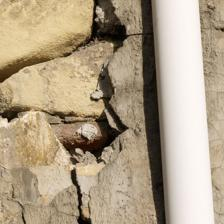Crack: (0, 0, 67, 139), (84, 0, 131, 78), (61, 96, 162, 126), (25, 56, 79, 98), (58, 8, 79, 75)
